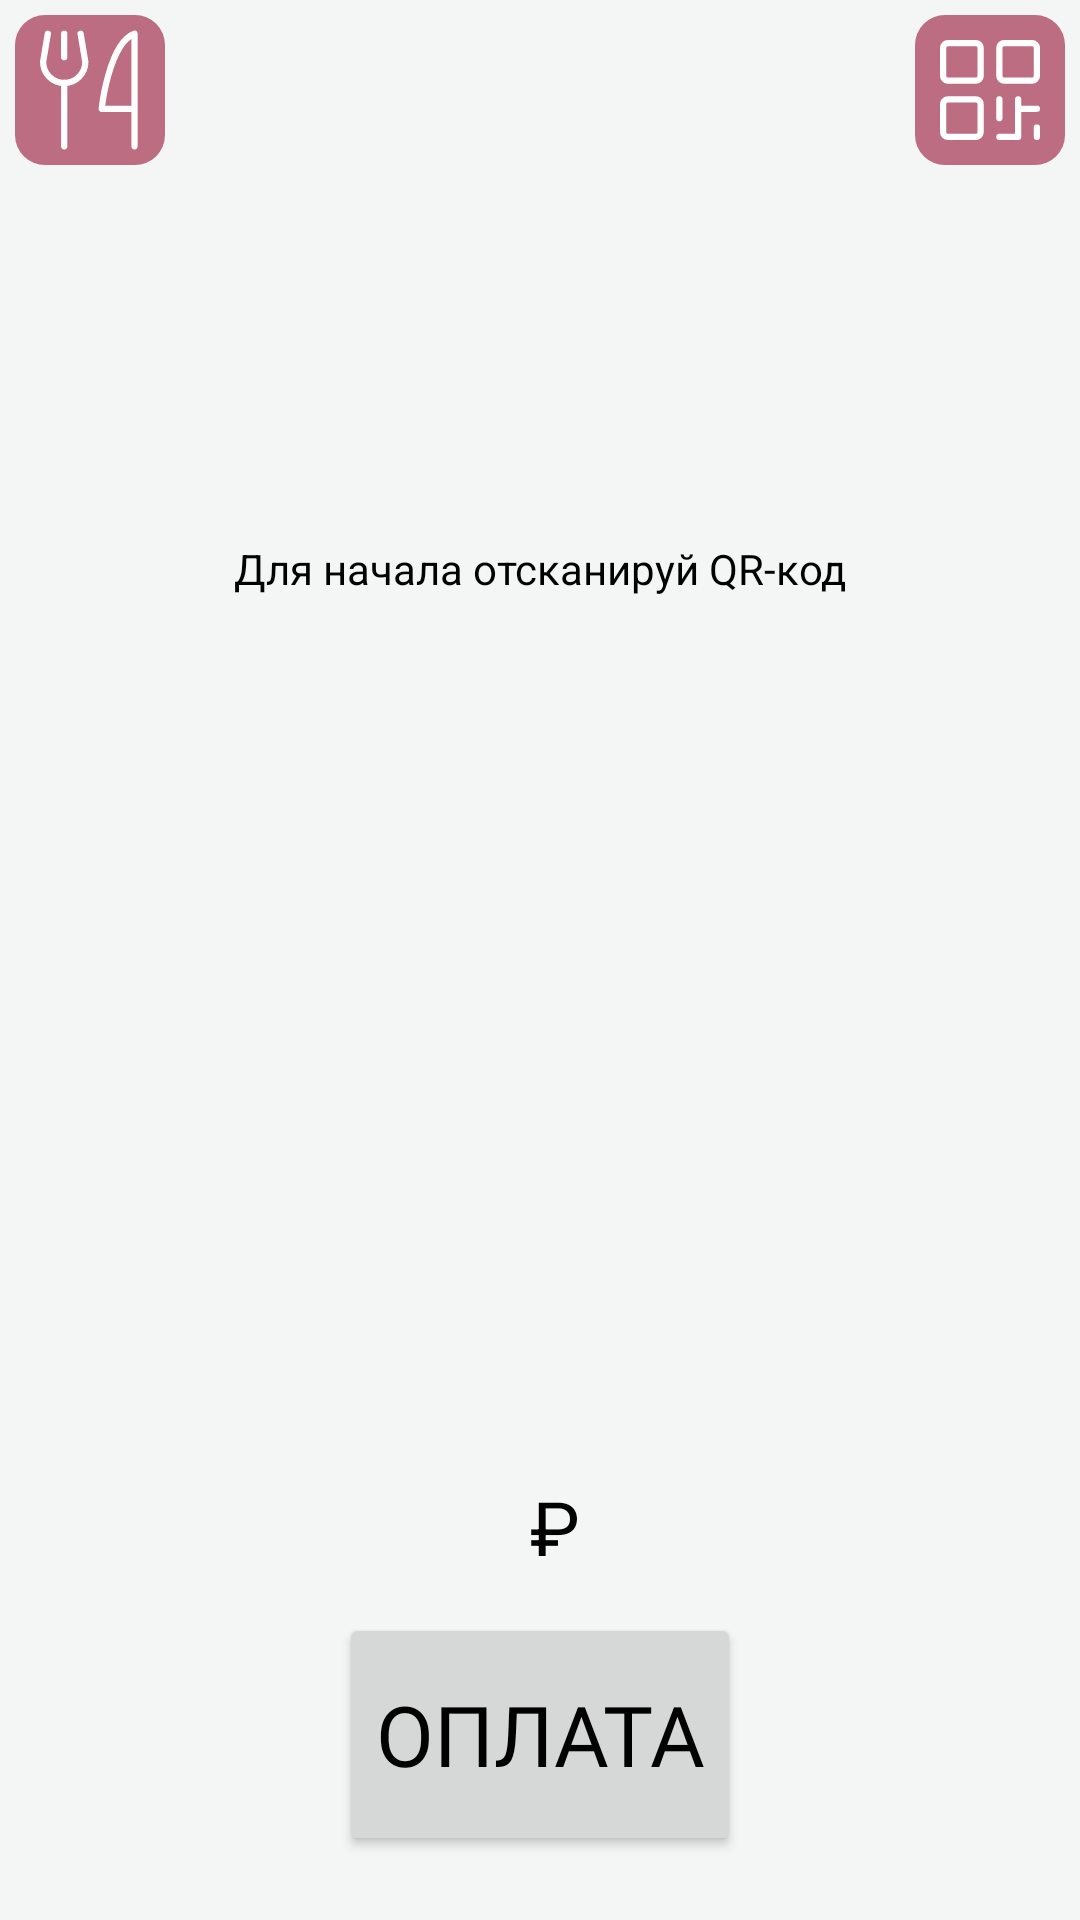

Point at icon controls on the screen. Image size 1080x1920, points as point (x, y).
menufortoday: point (90, 90)
qrstartbutton: point (990, 90)
